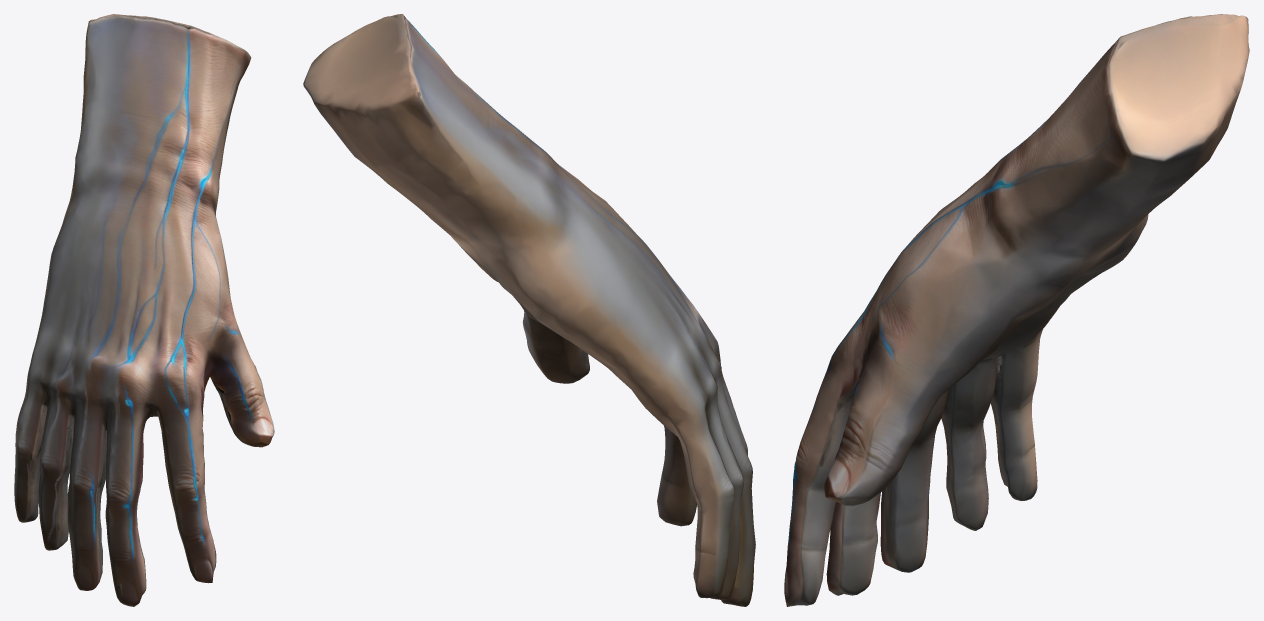
The model's file is a_3d_model_of_lower_hand.glb.
3 views of the same model, side by side, from view 1: azimuth 30°, elevation 25°; view 2: azimuth 150°, elevation 25°; view 3: azimuth 270°, elevation 25° (orthographic). The views are drawn at different scales.
Visible parts, largest first — view 1: Object_4; view 2: Object_4; view 3: Object_4.
Boxes of the visible parts, x1,y1,x2,y2 form: Object_4: (14,14,274,606); Object_4: (303,14,755,606); Object_4: (784,14,1249,606).
Size of the model in its own units: 1.24 by 2 by 1.26.
1 material, 1 textured.
